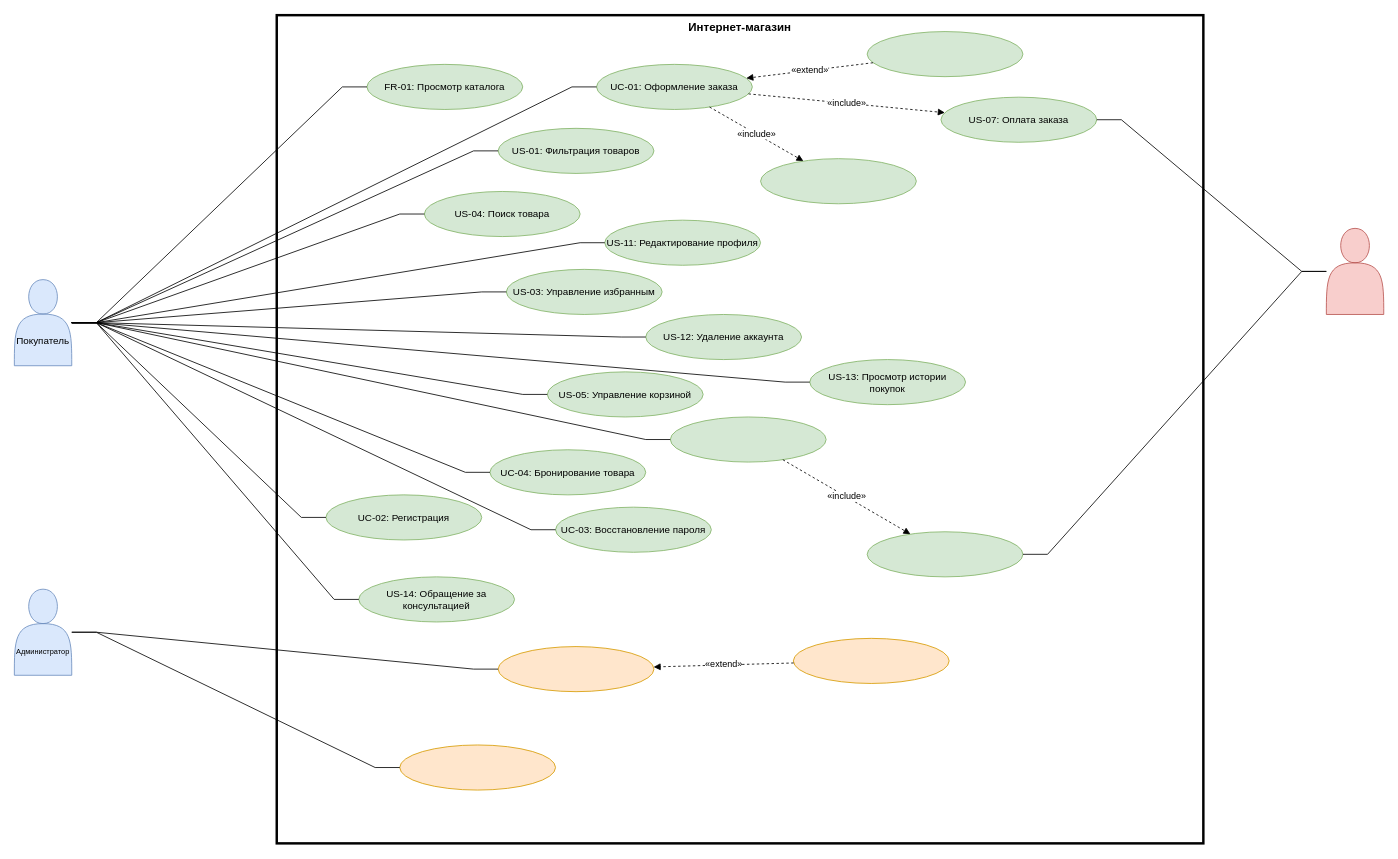
Image size: 1398x859. Some labels were removed from this diagram. Each missing label, with the centre of its shape:
UC-05: Возврат оплаты: the point at 944,554
UC-05: Отмена заказа: the point at 748,439
UC-06: Обработка заказов: the point at 575,669
UC-07: Управление каталогом и остатками: the point at 477,767
US-06: Гостевой чекаут: the point at 944,54
US-07: Выбор способа оплаты: the point at 838,181
US-16: Просмотр истории покупателя: the point at 871,660
Платёжный шлюз: the point at 1355,271
